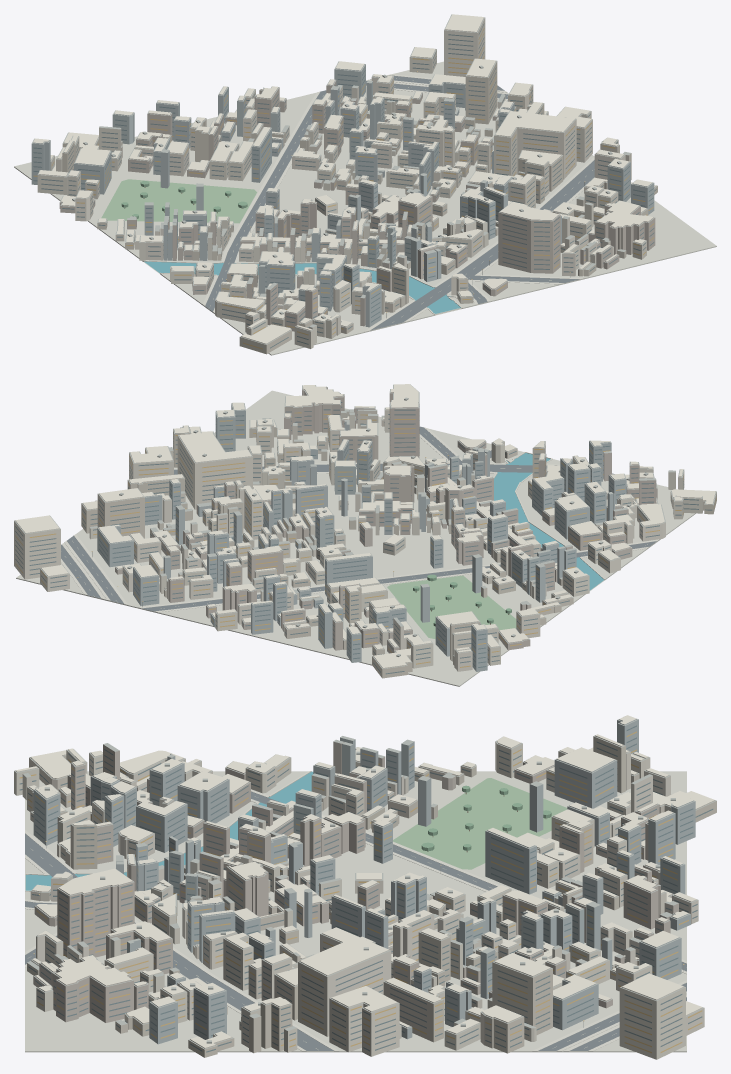
The picture shows the model from 3 angles, top to bottom: view 1: azimuth 30°, elevation 25°; view 2: azimuth 150°, elevation 25°; view 3: azimuth 270°, elevation 25°; orthographic projection. The views are drawn at different scales.
Parts seen in each view (by area): view 1: city; view 2: city; view 3: city.
Boxes of the visible parts, left/top/right/bottom form: city: left=14, top=14, right=716, bottom=355; city: left=14, top=384, right=716, bottom=686; city: left=14, top=715, right=716, bottom=1059.
Bounding box in the file's own units: 532 × 59.25 × 531.
